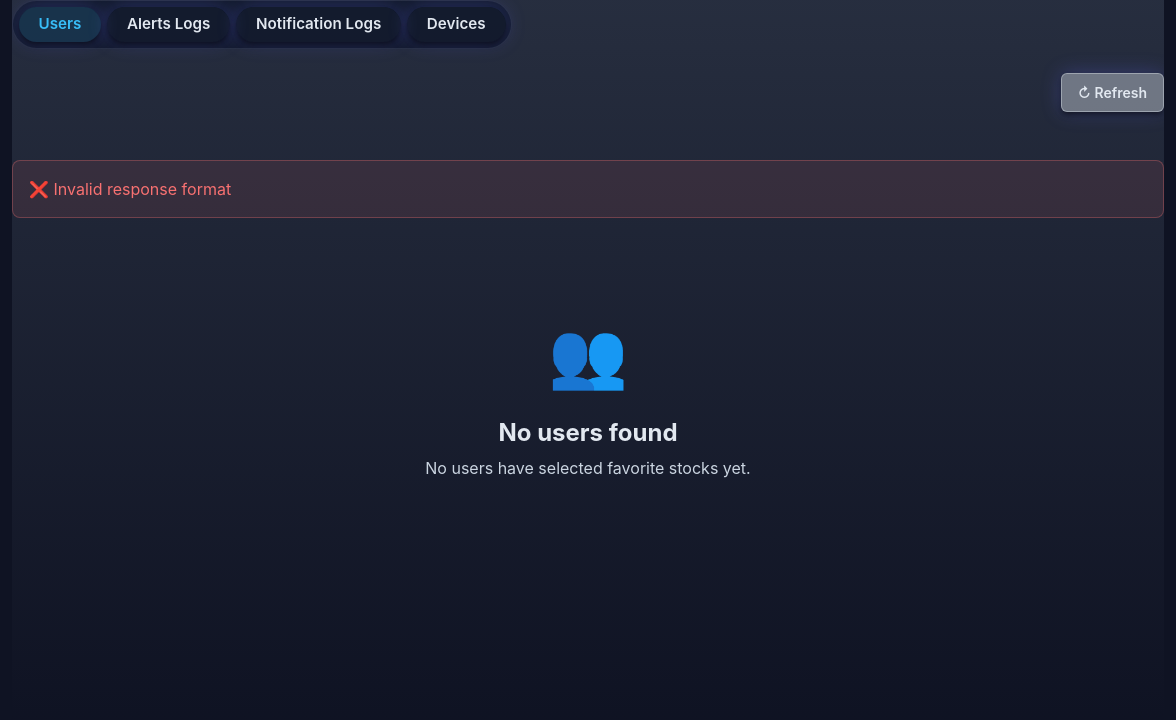
Test: MonitoringSection (Legacy MonitoringPage Tests) › should display empty state when no alerts
The width and height of the screenshot is (1176, 720).
Click on Alerts Logs tab (MonitoringSection defaults to "users" tab)
Click the button "Alerts Logs".
click(169, 24)  # box top-left (107, 7), bottom-right (230, 42)
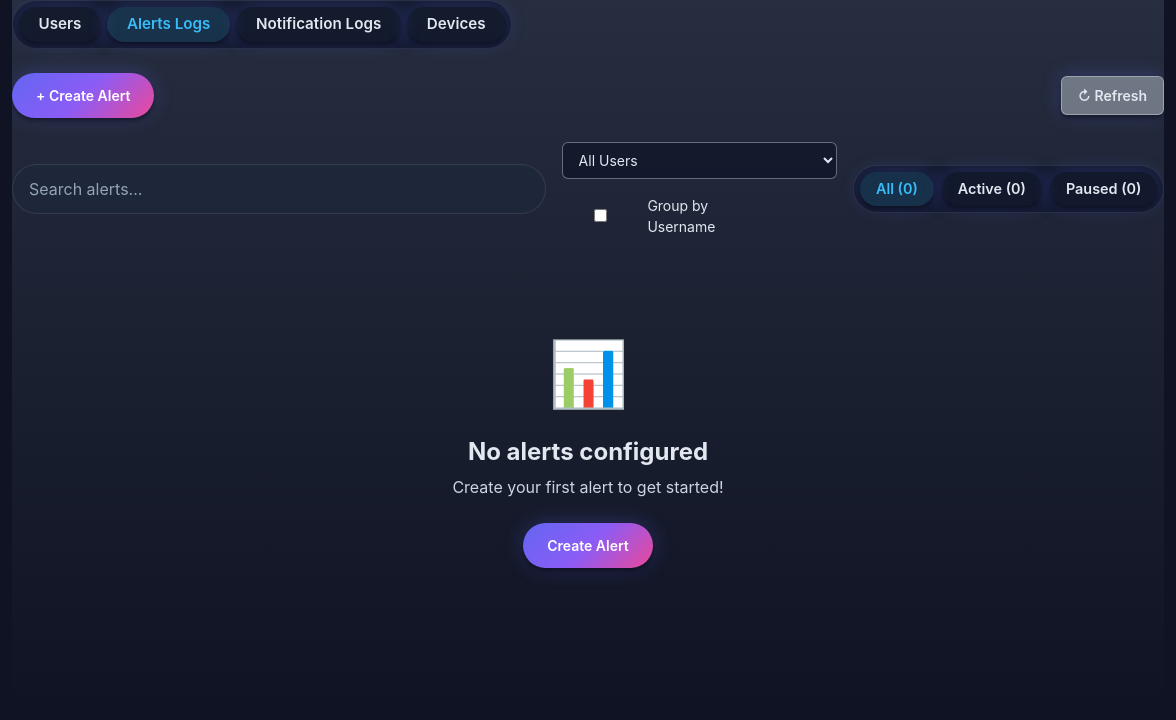
Check: the heading "No alerts configured" is shown, box top-left (468, 437), bottom-right (708, 466)
